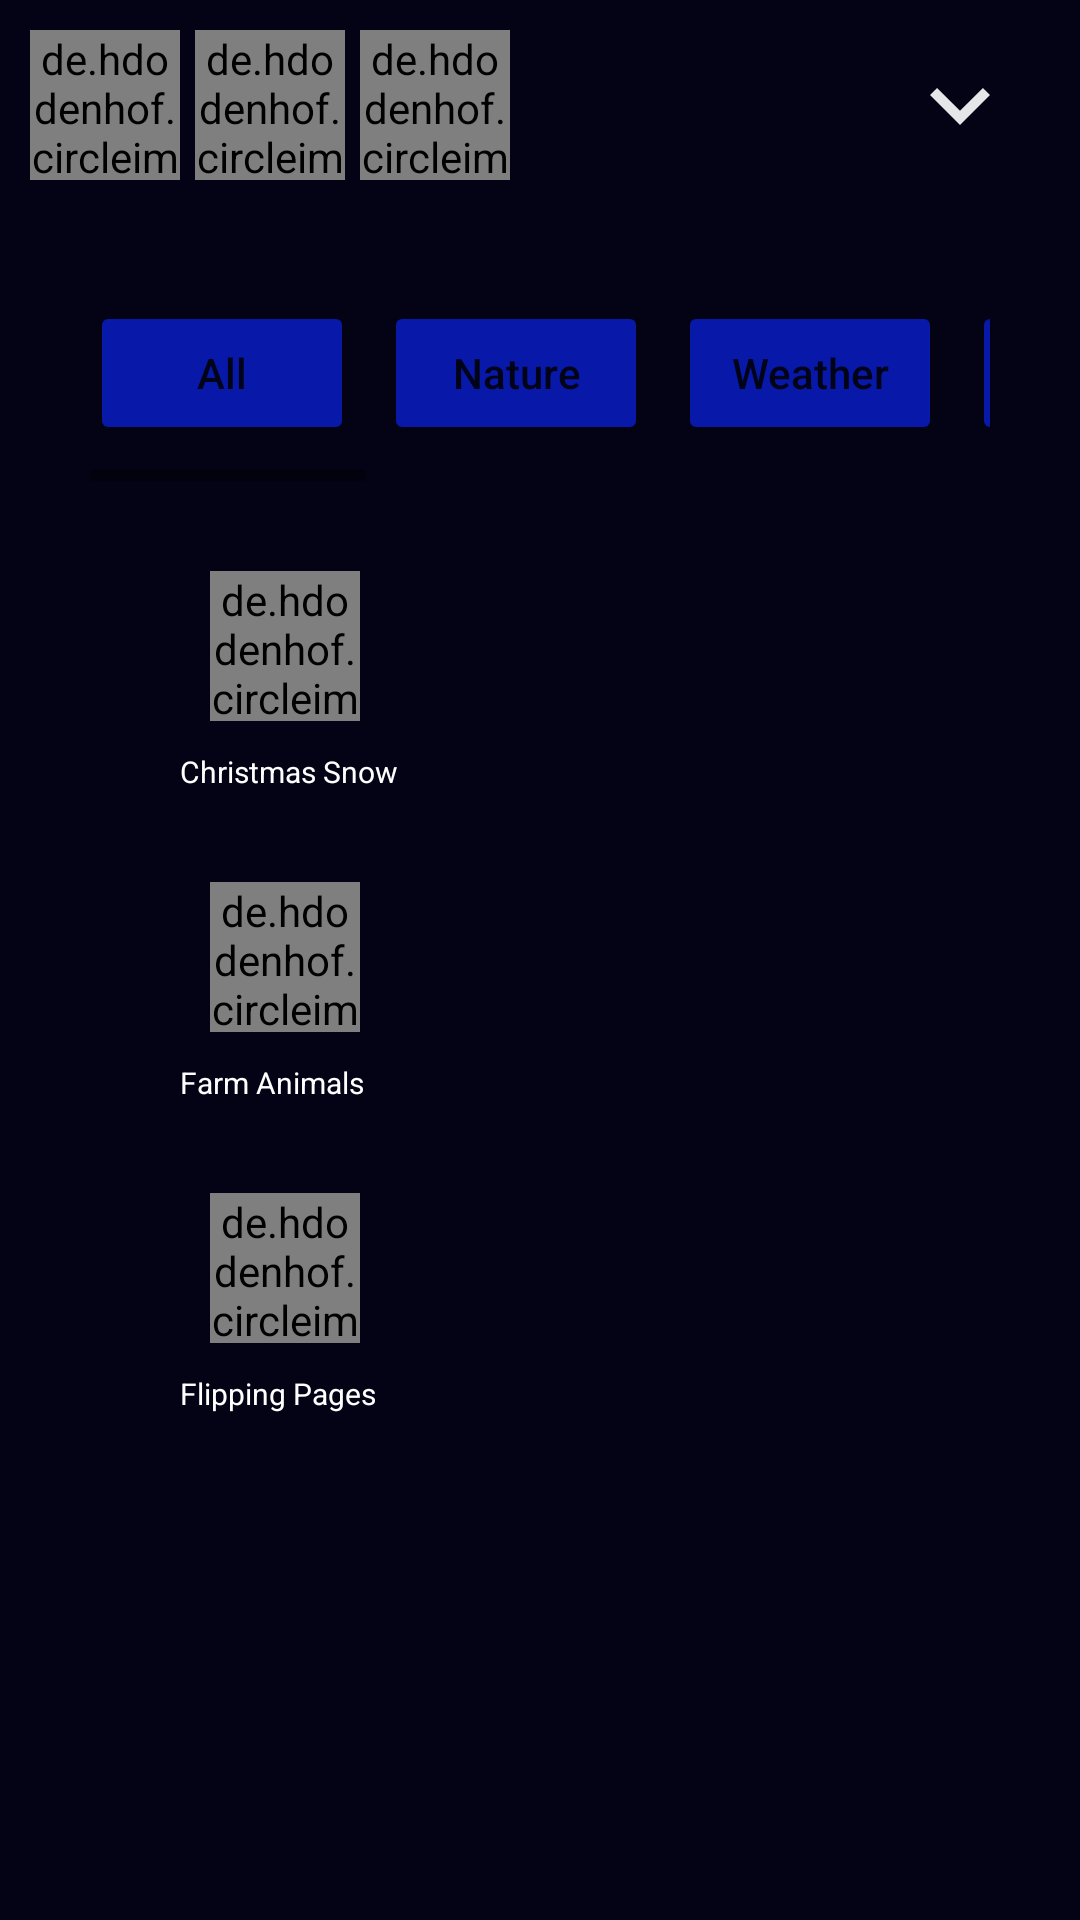

Screen size 1080*1920. Icon name, then its center in pixels as (x=x, y=y):
down arrow: (x=960, y=106)
